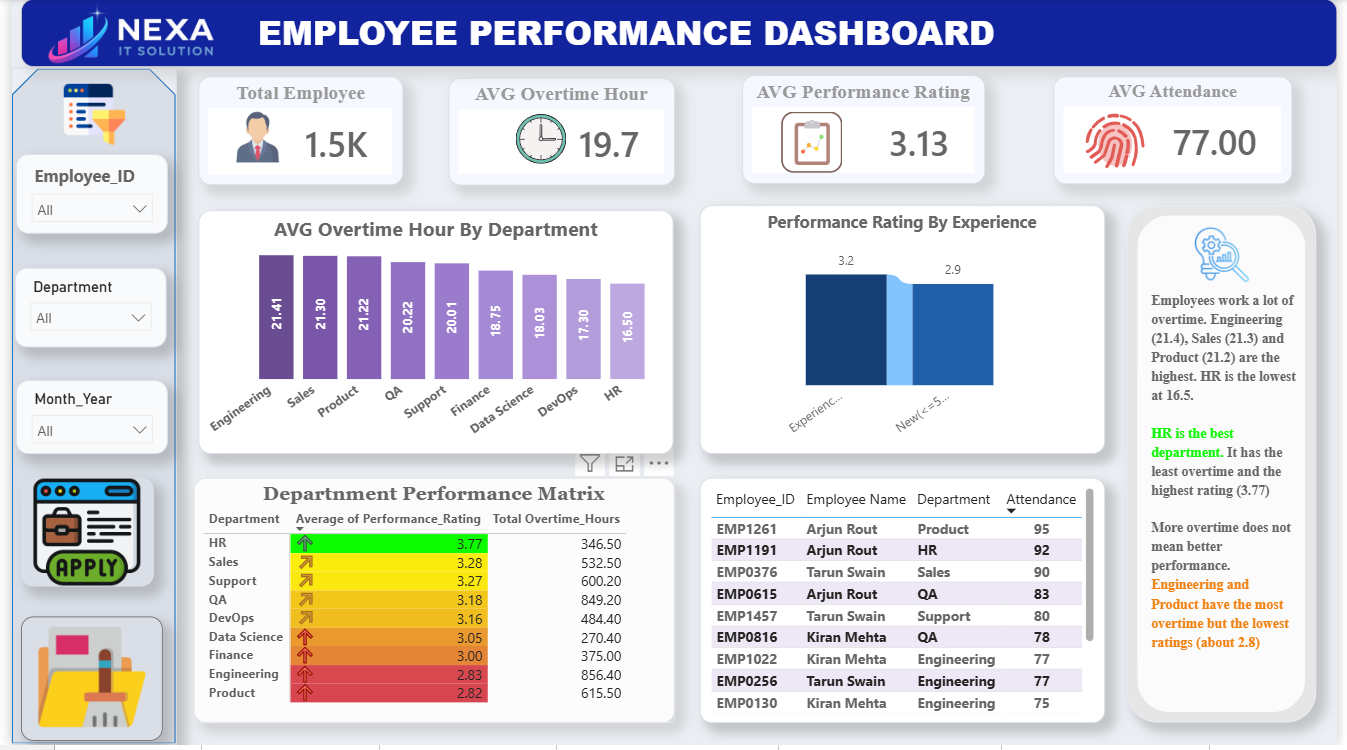

Layout of this report page (visuals, bound fields, positions):
{"tool":"powerbi","page":{"name":"Employee Performance ","canvas":[1280,720],"ordinal":7},"visuals":[{"type":"shape","box":[0,65.9,160,653.6],"z":0},{"type":"cardVisual","title":"AVG Overtime Hour","fields":{"Data":["Performance.Average Overtime Hour"]},"box":[422.3,76,218.4,103.8],"z":1000},{"type":"textbox","box":[9.6,0,1270.7,65.9],"z":2000},{"type":"image","box":[9.7,0,214.7,66.4],"z":3000},{"type":"cardVisual","title":"Total Employee","fields":{"Data":["Count(Employees.Employee_ID)"]},"box":[181,74.8,197.7,104.9],"z":4000},{"type":"cardVisual","title":"AVG Performance Rating","fields":{"Data":["Performance.Average Performance Rating"]},"box":[705.8,73.6,234,105],"z":5000},{"type":"image","box":[160.5,108.6,154.7,49.8],"z":6000},{"type":"image","box":[696.1,108.6,153.2,59.1],"z":7000},{"type":"image","box":[431.9,111,159.3,48.3],"z":8000},{"type":"slicer","fields":{"Values":["Performance.Employee_ID"]},"box":[5.4,149.3,146.6,76.7],"z":9000},{"type":"pivotTable","title":"Departnment Performance Matrix","fields":{"Rows":["Employees.Department"],"Values":["Avg(Performance.Performance_Rating)","Sum(Performance.Overtime_Hours)"]},"box":[176.1,462.1,464.5,236.5],"z":10000},{"type":"slicer","fields":{"Values":["Employees.Department"]},"box":[4,259.6,146.6,76.7],"z":11000},{"type":"slicer","fields":{"Values":["Performance.Month_Year"]},"box":[5.4,368.5,146.6,71.3],"z":12000},{"type":"image","box":[9.4,462.6,127.8,104.9],"z":13000},{"type":"cardVisual","title":"AVG Attendance","fields":{"Data":["Avg(Performance.Attendance_Pct)"]},"box":[1006.2,74.8,230.4,103.8],"z":14000},{"type":"image","box":[9.4,595.8,137.2,119.7],"z":15000},{"type":"image","box":[978.4,108.6,172.5,59.1],"z":16000},{"type":"tableEx","title":"Project Status Distribution","fields":{"Values":["Employees.Employee_ID","Employees.Full_Name","Employees.Department","Sum(Performance.Attendance_Pct)"]},"box":[664.7,462.1,390.9,236.5],"z":17000},{"type":"clusteredColumnChart","title":"AVG Overtime Hour By Department ","fields":{"Category":["Employees.Department"],"Y":["Performance.Average Overtime Hour"]},"box":[181.6,204.4,458.6,235.3],"z":18000},{"type":"image","box":[22.9,80.8,115.8,61.5],"z":19000},{"type":"columnChart","title":"Performance Rating By Experience","fields":{"Category":["Employees.<5 And >5 Experience Group"],"Y":["Performance.Average Performance Rating"]},"box":[664.7,199.1,390.9,240.1],"z":20000},{"type":"shape","box":[1077.4,199.1,182.2,499.5],"z":21000},{"type":"image","box":[1082.2,217.2,172.5,59.1],"z":22000},{"type":"textbox","box":[1095.4,276.3,150.8,412.6],"z":23000}]}

Visuals, with their boxes in screenshot pixels (x1, y1, x2, y2), scaled from the page's 1280x720 canvas onto the 1347x750 screenshot:
shape: (0,69,168,749)
"AVG Overtime Hour" cardVisual: (444,79,674,187)
textbox: (10,0,1346,69)
image: (10,0,236,69)
"Total Employee" cardVisual: (190,78,399,187)
"AVG Performance Rating" cardVisual: (743,77,989,186)
image: (169,113,332,165)
image: (733,113,894,175)
image: (455,116,622,166)
slicer - Performance.Employee_ID: (6,156,160,235)
"Departnment Performance Matrix" pivotTable: (185,481,674,728)
slicer - Employees.Department: (4,270,158,350)
slicer - Performance.Month_Year: (6,384,160,458)
image: (10,482,144,591)
"AVG Attendance" cardVisual: (1059,78,1301,186)
image: (10,621,154,745)
image: (1030,113,1211,175)
"Project Status Distribution" tableEx: (699,481,1111,728)
"AVG Overtime Hour By Department " clusteredColumnChart: (191,213,674,458)
image: (24,84,146,148)
"Performance Rating By Experience" columnChart: (699,207,1111,458)
shape: (1134,207,1326,728)
image: (1139,226,1320,288)
textbox: (1153,288,1311,718)
